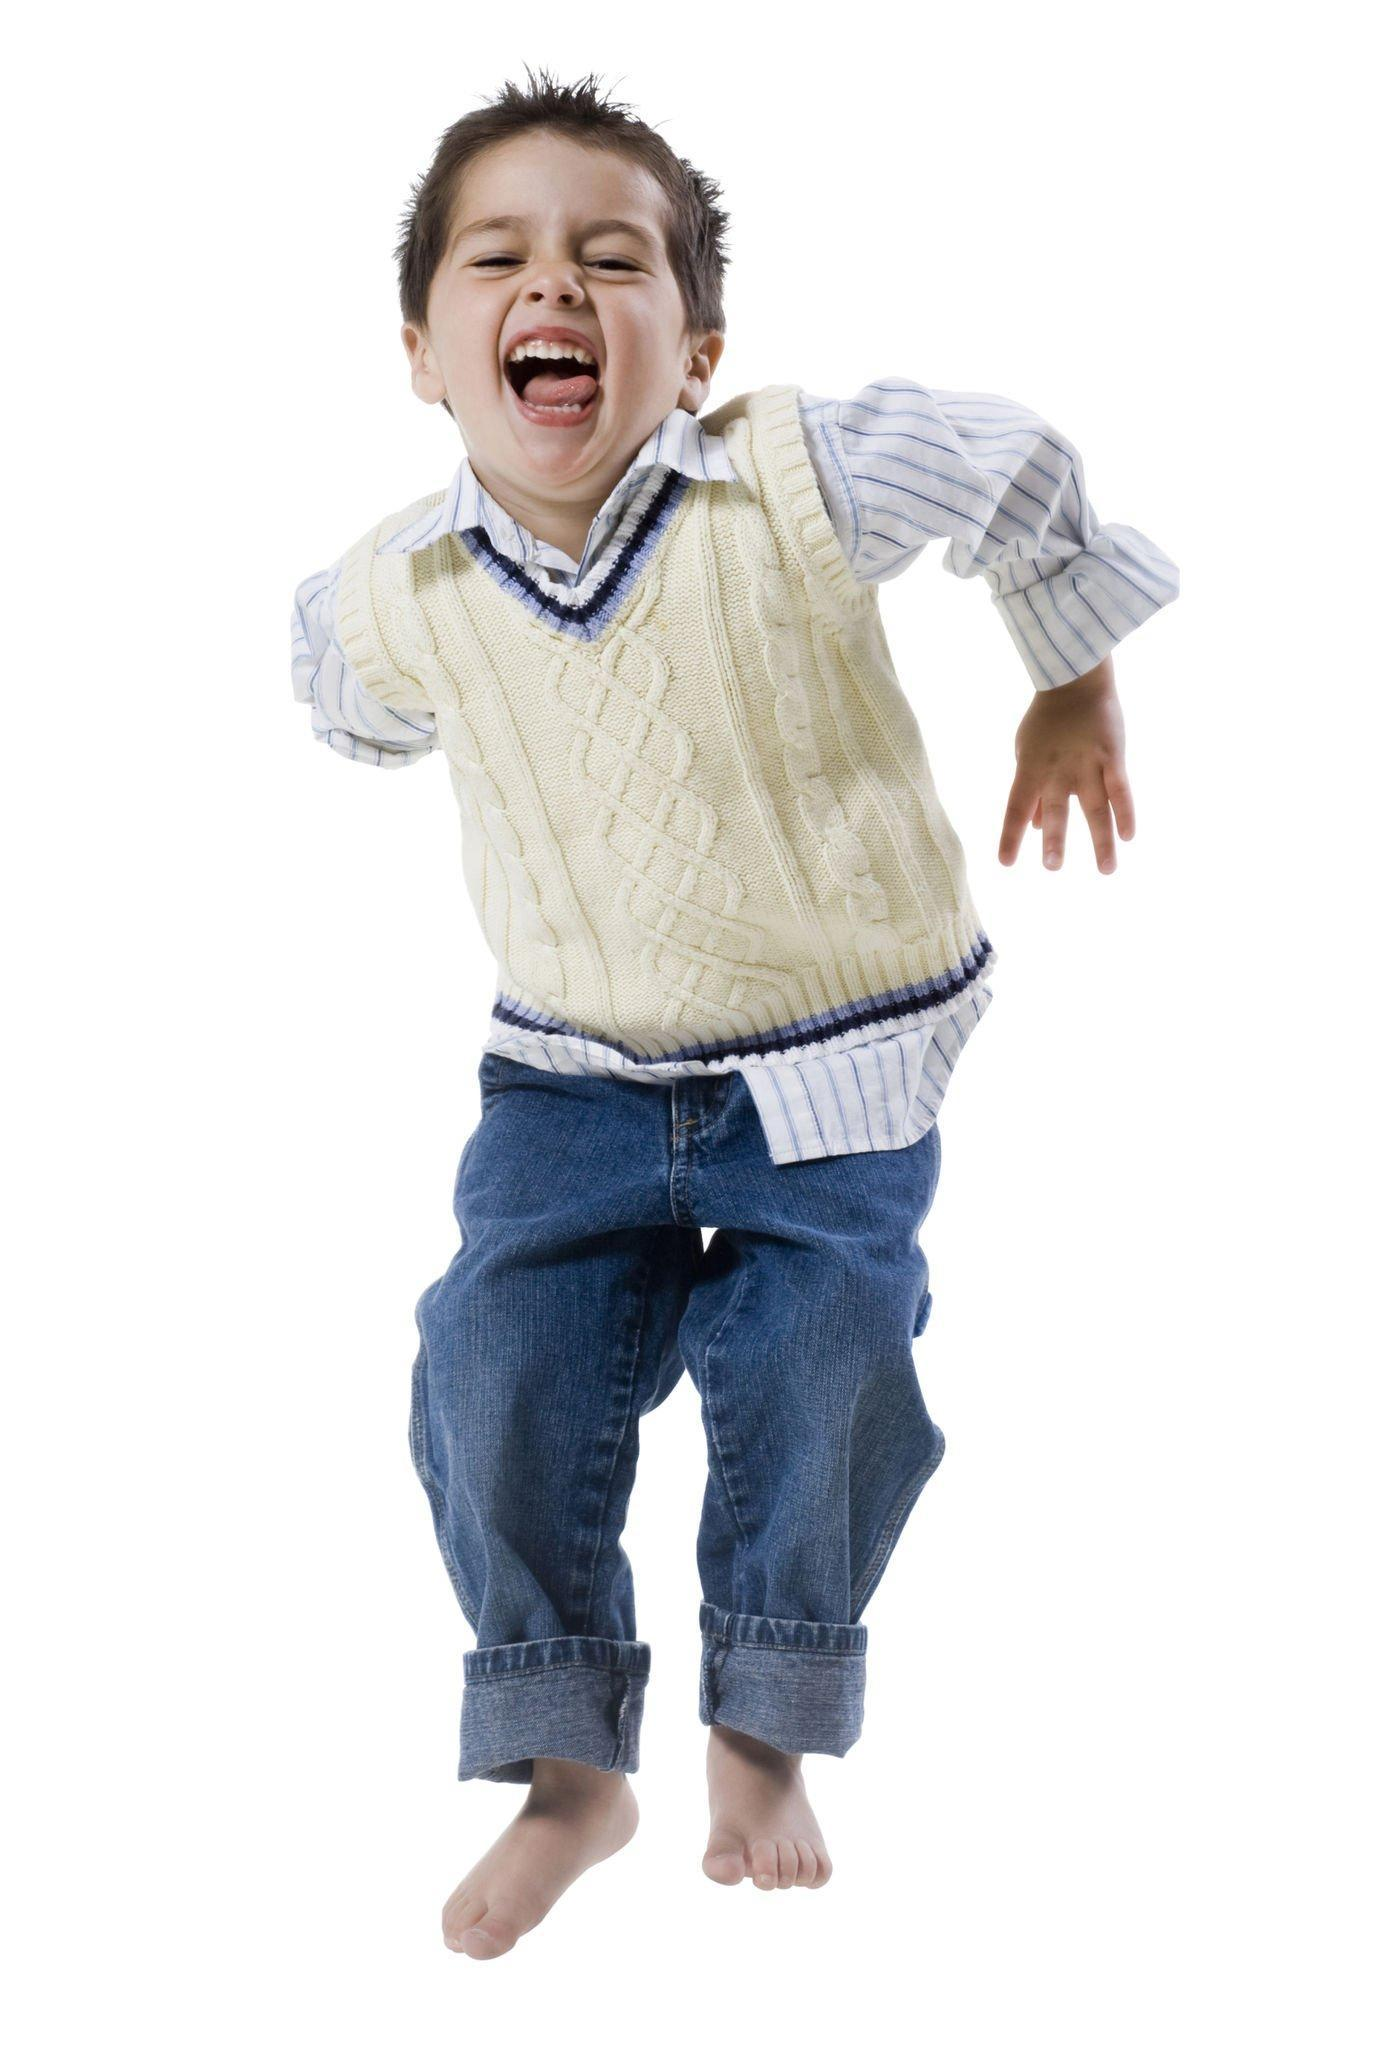Healthy: (391, 82, 739, 538)
